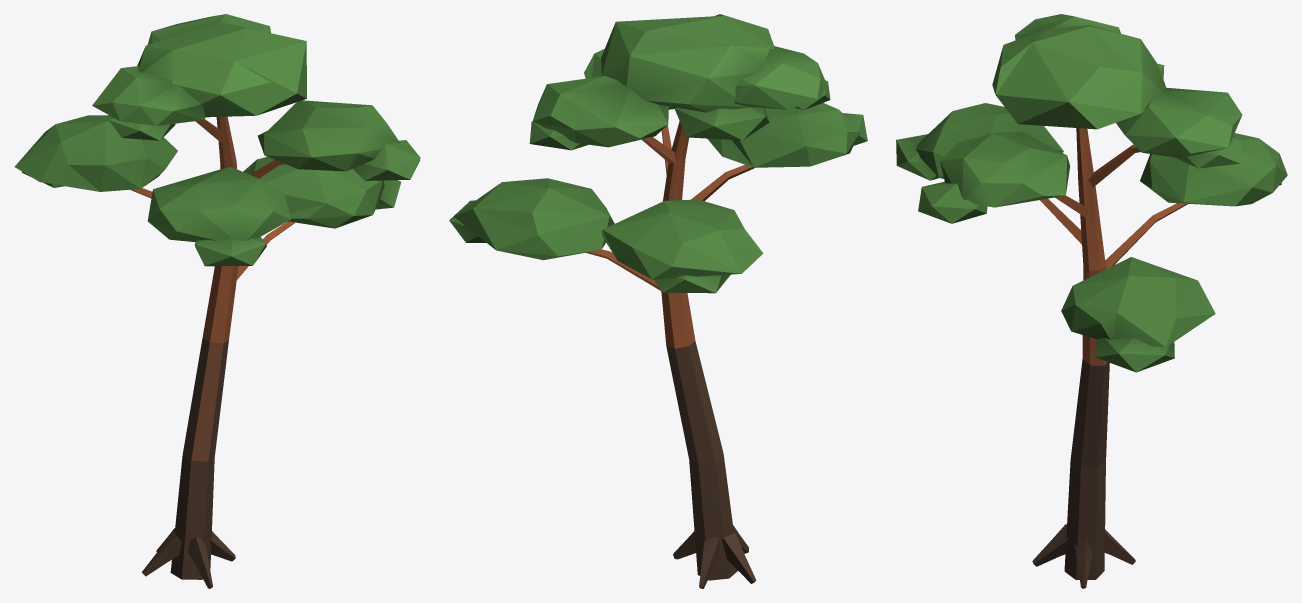
The model's file is tree_big_pine_low.glb.
3 renders of one model, left to right at view 1: azimuth 30°, elevation 25°; view 2: azimuth 150°, elevation 25°; view 3: azimuth 270°, elevation 25°, orthographic. The views are drawn at different scales.
Size of the model in its own units: 8.64 by 13.05 by 8.58.
